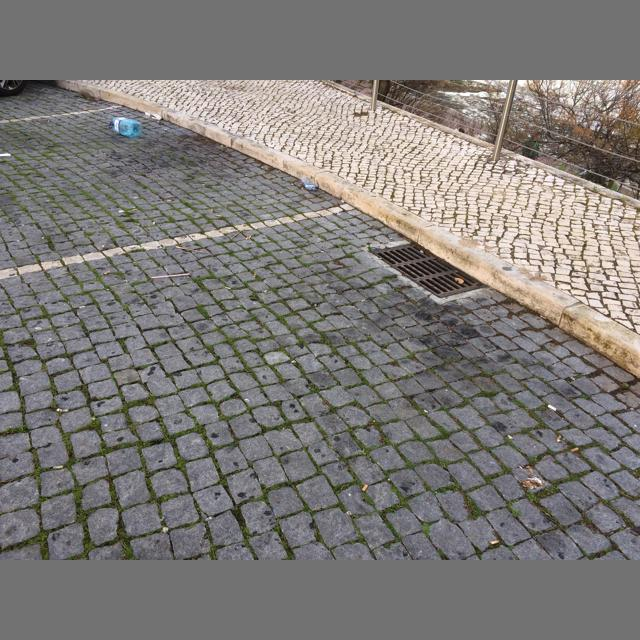litter: (109, 117, 142, 137), (300, 177, 316, 191), (362, 483, 368, 491), (570, 447, 578, 452), (556, 436, 562, 442), (104, 270, 110, 275), (540, 315, 546, 319), (507, 435, 513, 439), (225, 287, 231, 290), (214, 215, 222, 217), (146, 227, 151, 230), (340, 200, 345, 203), (135, 223, 140, 225), (133, 209, 138, 211), (262, 207, 267, 209), (336, 213, 341, 215), (248, 236, 251, 239), (362, 299, 365, 302), (122, 179, 126, 181), (102, 245, 104, 248), (152, 222, 155, 224), (133, 197, 139, 198), (211, 209, 213, 212), (302, 186, 304, 189), (245, 237, 248, 239), (167, 200, 172, 201), (320, 251, 324, 252), (164, 129, 168, 130), (29, 130, 33, 131), (244, 175, 247, 176)
